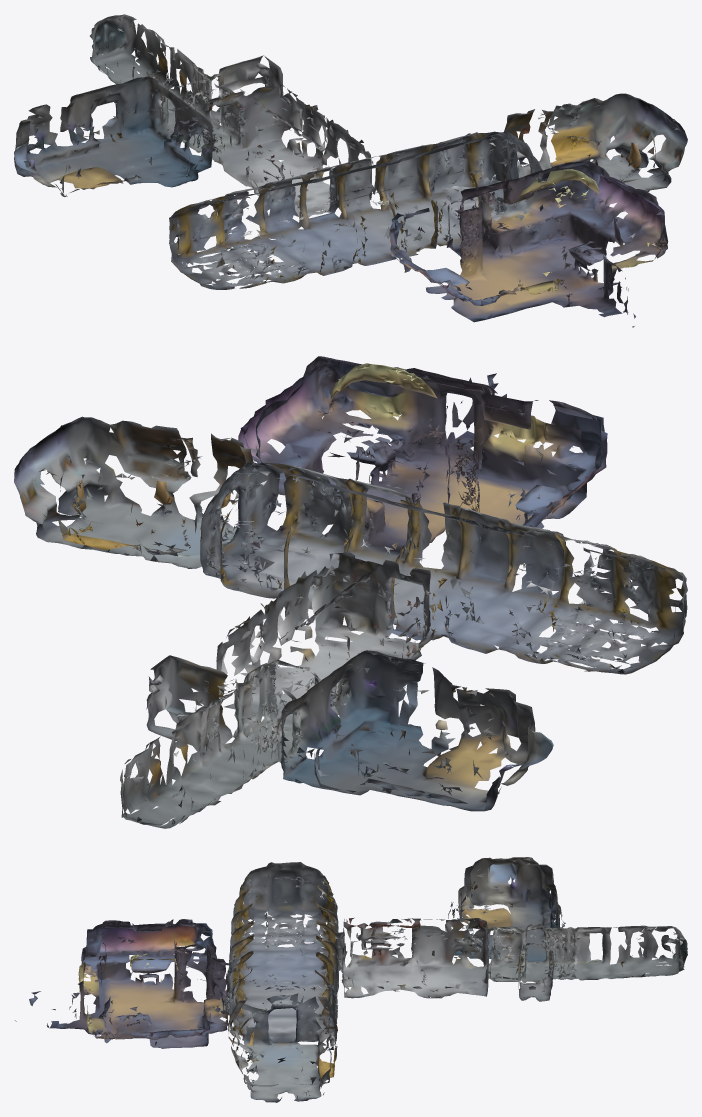
File: cozy_space_ship_mesh2.glb
3 renders of one model, top to bottom at view 1: azimuth 30°, elevation 25°; view 2: azimuth 150°, elevation 25°; view 3: azimuth 270°, elevation 25°, orthographic. The views are drawn at different scales.
Visible parts, largest first — view 1: mesh.obj; view 2: mesh.obj; view 3: mesh.obj.
Boxes of the visible parts, box(x1,y1,x2,y2) form: mesh.obj: box(14, 14, 687, 327); mesh.obj: box(14, 356, 687, 828); mesh.obj: box(15, 857, 687, 1102).
Size of the model in its own units: 55.61 by 9.45 by 74.63.
